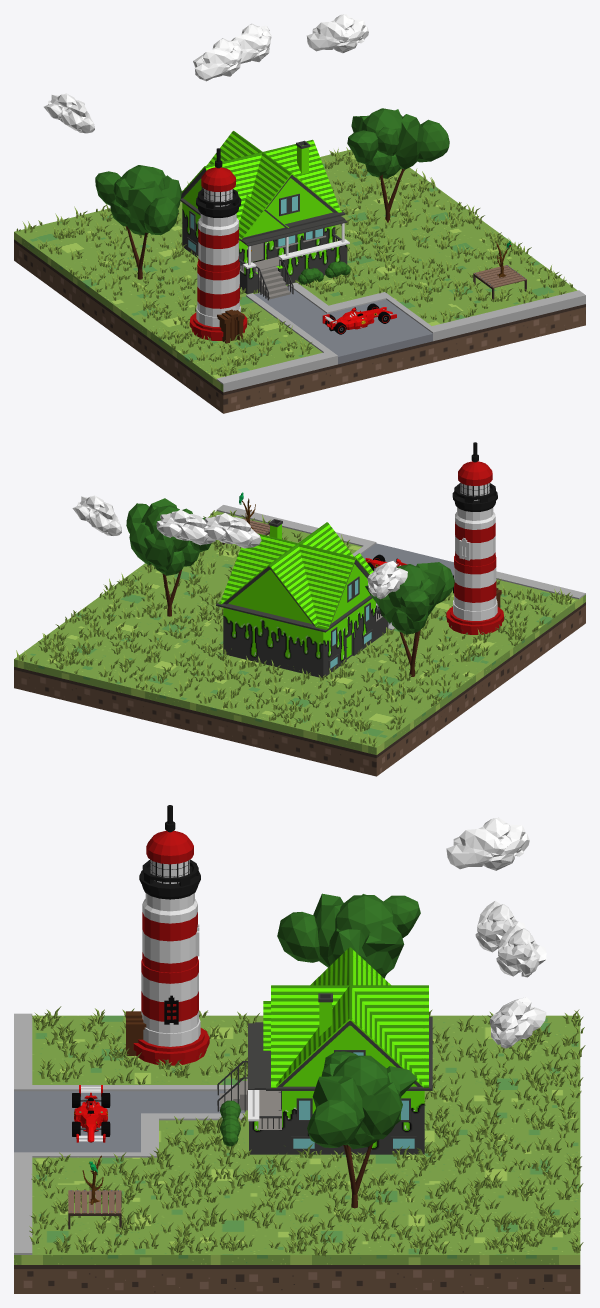
3 views of the same model, one above another, from view 1: azimuth 30°, elevation 25°; view 2: azimuth 150°, elevation 25°; view 3: azimuth 270°, elevation 25° (orthographic). The views are drawn at different scales.
Visible parts, largest first — view 1: Cube.006, Circle.012_Grass_0.192, Cube.754, OBJRANDOM_LIGHTHOUSE, Cube.007, tree, tree.001, VEHICLES_FORMULA_1, Cube.009; view 2: Cube.006, Cube.754, Circle.012_Grass_0.192, OBJRANDOM_LIGHTHOUSE, Cube.007, tree.001, tree; view 3: Cube.006, Circle.012_Grass_0.192, Cube.754, OBJRANDOM_LIGHTHOUSE, tree, Cube.007, tree.001, VEHICLES_FORMULA_1, Cube.009.
Boxes of the visible parts, <box> form: Cube.006: <box>14,149,585,413</box>; Circle.012_Grass_0.192: <box>16,147,573,376</box>; Cube.754: <box>180,131,349,300</box>; OBJRANDOM_LIGHTHOUSE: <box>189,148,247,343</box>; Cube.007: <box>44,14,368,133</box>; tree: <box>347,108,449,222</box>; tree.001: <box>95,165,181,279</box>; VEHICLES_FORMULA_1: <box>322,303,396,334</box>; Cube.009: <box>473,265,526,299</box>; Cube.006: <box>14,505,585,776</box>; Cube.754: <box>216,519,388,678</box>; Circle.012_Grass_0.192: <box>16,510,572,746</box>; OBJRANDOM_LIGHTHOUSE: <box>446,442,503,634</box>; Cube.007: <box>72,495,407,599</box>; tree.001: <box>365,562,454,676</box>; tree: <box>126,498,211,616</box>; Cube.006: <box>14,1013,580,1293</box>; Circle.012_Grass_0.192: <box>29,1006,585,1256</box>; Cube.754: <box>217,947,432,1154</box>; OBJRANDOM_LIGHTHOUSE: <box>126,805,209,1065</box>; tree: <box>307,1051,417,1208</box>; Cube.007: <box>446,817,546,1048</box>; tree.001: <box>277,893,420,978</box>; VEHICLES_FORMULA_1: <box>72,1085,110,1142</box>; Cube.009: <box>68,1190,121,1229</box>.
Bounding box in the file's own units: 4071 × 2291 × 4040.
Materials: 40 (4 with a texture image).
